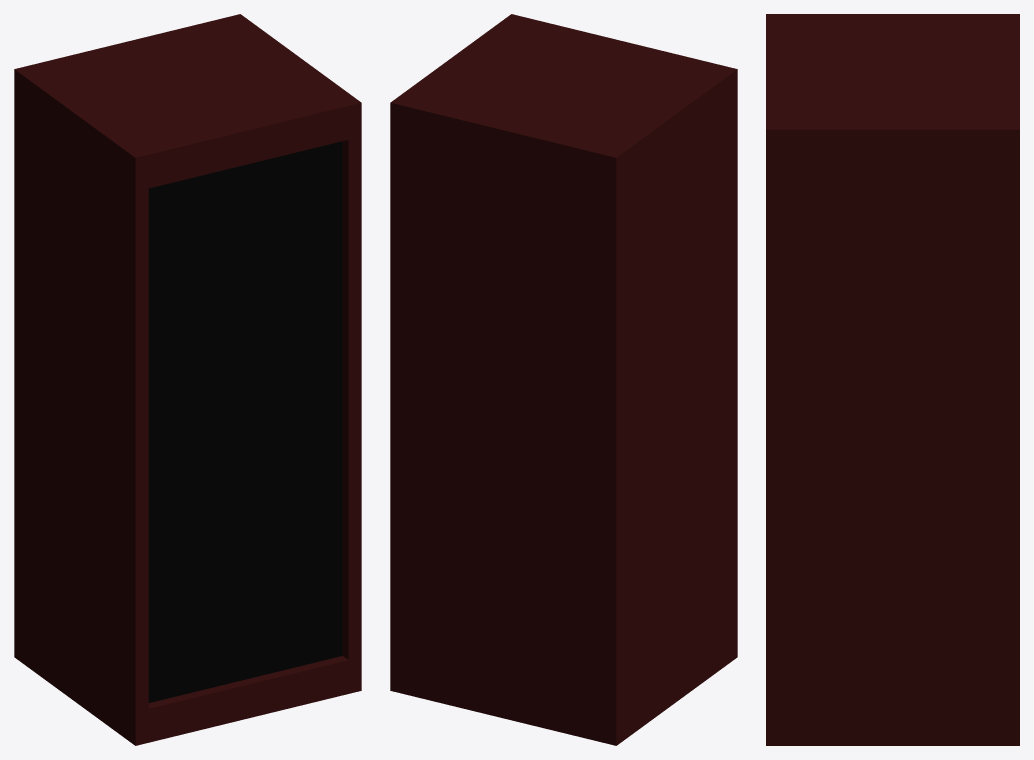
The model's file is speaker.fbx.
3 renders of one model, left to right at view 1: azimuth 30°, elevation 25°; view 2: azimuth 150°, elevation 25°; view 3: azimuth 270°, elevation 25°, orthographic. The views are drawn at different scales.
Parts seen in each view (by area): view 1: pCube1; view 2: pCube1; view 3: pCube1.
Boxes of the visible parts, box(x1,y1,x2,y2) form: pCube1: box(14, 14, 361, 745); pCube1: box(390, 14, 737, 745); pCube1: box(766, 14, 1019, 745).
Size of the model in its own units: 0.9744 by 2.42 by 0.9044.
